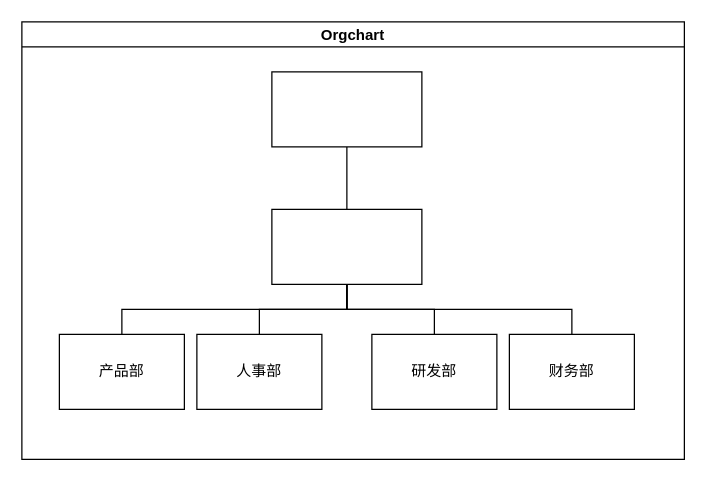
Image size: 706x481. Some labels were removed from this diagram. Here are the shapes that lost their labels. From the top down, the box of each, then its label:
(271, 71, 422, 147): 董事长
(271, 208, 422, 284): 总经理
